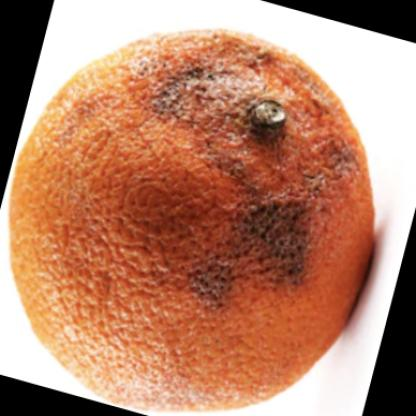rotten: (9, 29, 375, 414)
